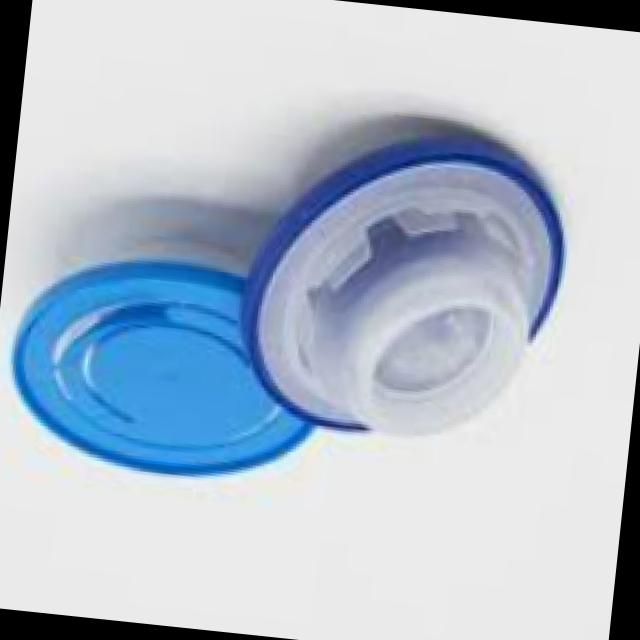Kardus: (226, 106, 580, 476)
